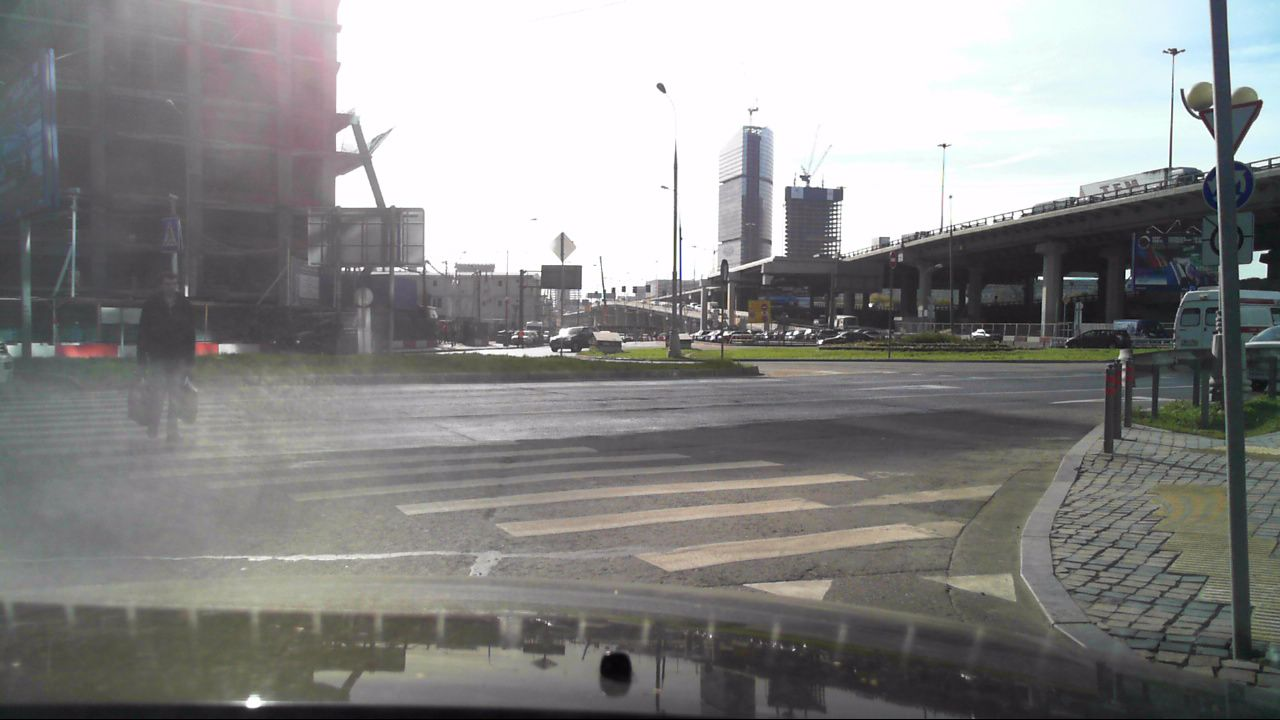Round-About: (1203, 160, 1255, 212)
